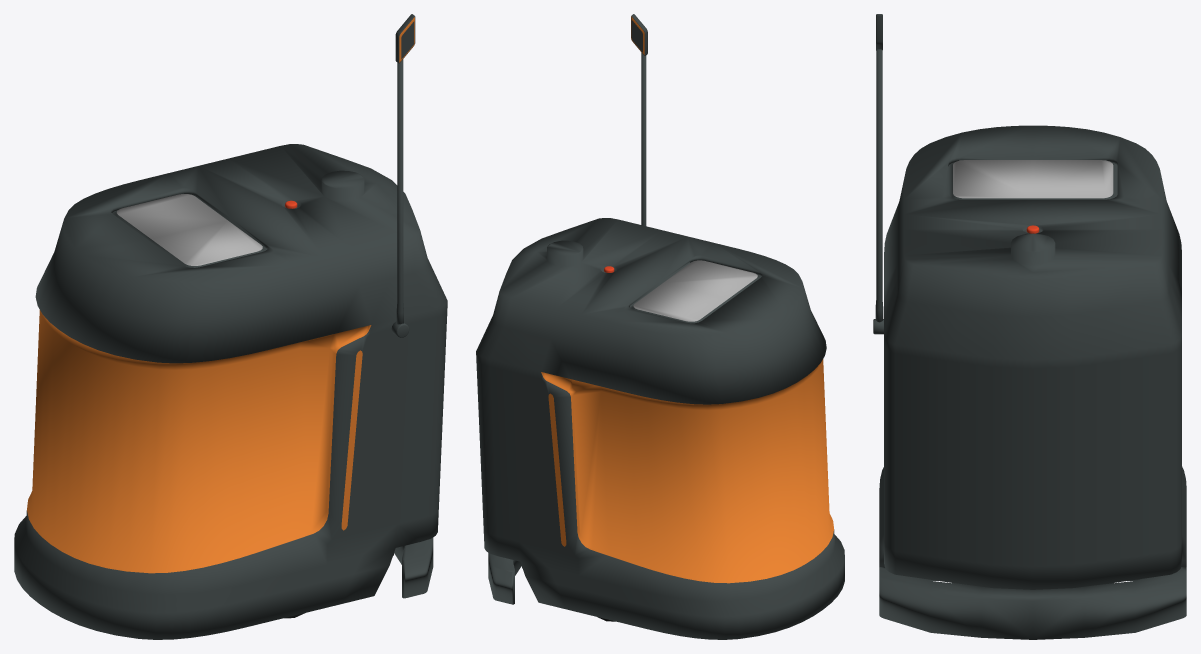
The model's file is floor_washer.glb.
The picture shows the model from 3 angles, left to right: view 1: azimuth 30°, elevation 25°; view 2: azimuth 150°, elevation 25°; view 3: azimuth 270°, elevation 25°; orthographic projection. The views are drawn at different scales.
Visible parts, largest first — view 1: Это база, Флажок, Щётка; view 2: Это база, Флажок, Щётка; view 3: Это база, Щётка, Флажок.
Boxes of the visible parts, <box> form: Это база: <box>14,144,447,639</box>; Флажок: <box>391,14,415,337</box>; Щётка: <box>394,537,433,598</box>; Это база: <box>476,218,844,639</box>; Флажок: <box>631,14,647,225</box>; Щётка: <box>488,553,521,604</box>; Это база: <box>879,125,1186,589</box>; Щётка: <box>879,566,1186,639</box>; Флажок: <box>873,14,883,334</box>.
Bounding box in the file's own units: 2.86 × 4.3 × 2.04.
